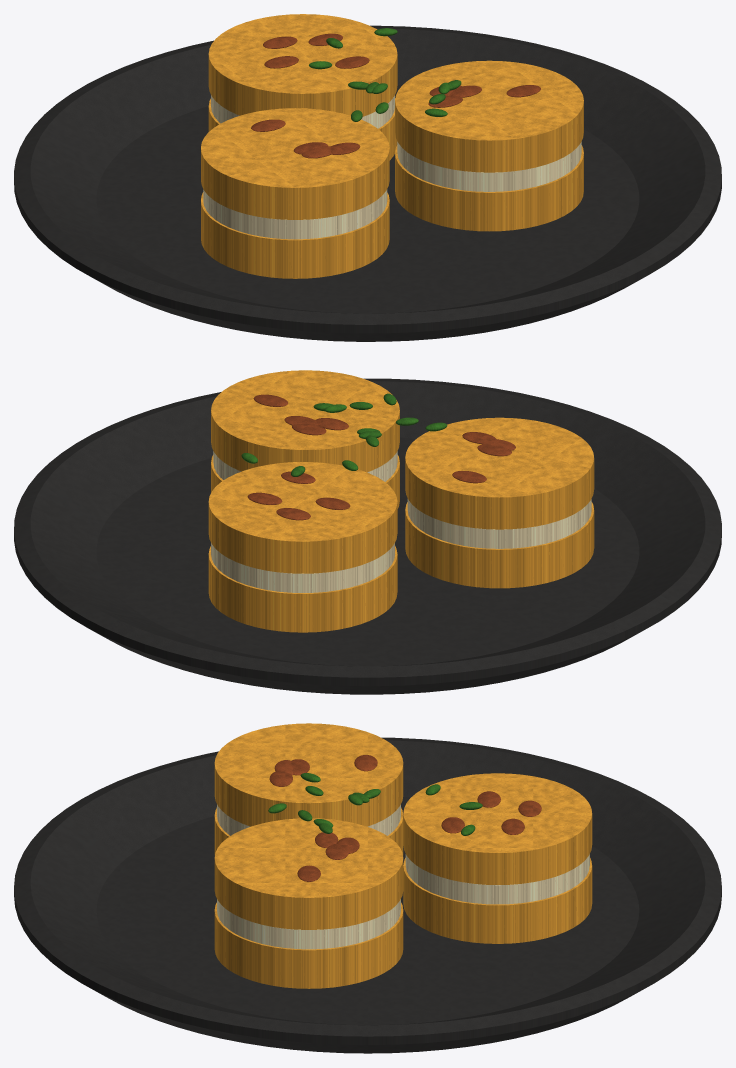
Rendered from arepas-ahumadas.glb.
3 renders of one model, top to bottom at view 1: azimuth 30°, elevation 25°; view 2: azimuth 150°, elevation 25°; view 3: azimuth 270°, elevation 25°, orthographic.
Parts seen in each view (by area): view 1: part0, part1, part2, part3, part4; view 2: part0, part1, part2, part3, part4; view 3: part0, part1, part2, part3, part4.
Part boxes in pixels (bbox=[...]): part0: bbox=[14, 25, 721, 341]; part1: bbox=[201, 14, 583, 278]; part2: bbox=[203, 95, 581, 239]; part3: bbox=[251, 33, 540, 158]; part4: bbox=[309, 28, 461, 121]; part0: bbox=[14, 378, 721, 694]; part1: bbox=[208, 370, 594, 632]; part2: bbox=[211, 451, 591, 592]; part3: bbox=[247, 394, 515, 520]; part4: bbox=[241, 393, 447, 476]; part0: bbox=[14, 737, 721, 1053]; part1: bbox=[214, 723, 592, 988]; part2: bbox=[217, 804, 589, 949]; part3: bbox=[269, 755, 541, 881]; part4: bbox=[268, 773, 482, 835].
Size of the model in its own units: 0.3 by 0.0665 by 0.3.
5 materials, 5 textured.
